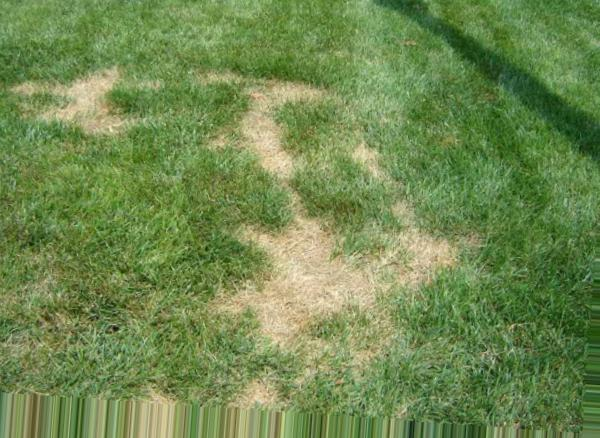patch: (280, 225, 343, 300), (254, 107, 287, 149), (264, 303, 301, 329)
